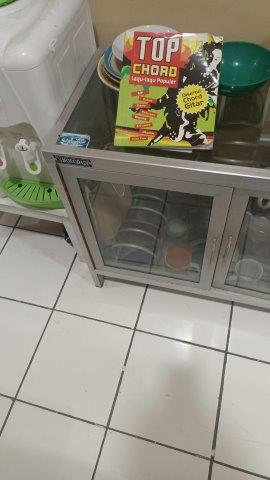kertas: (114, 31, 222, 157)
